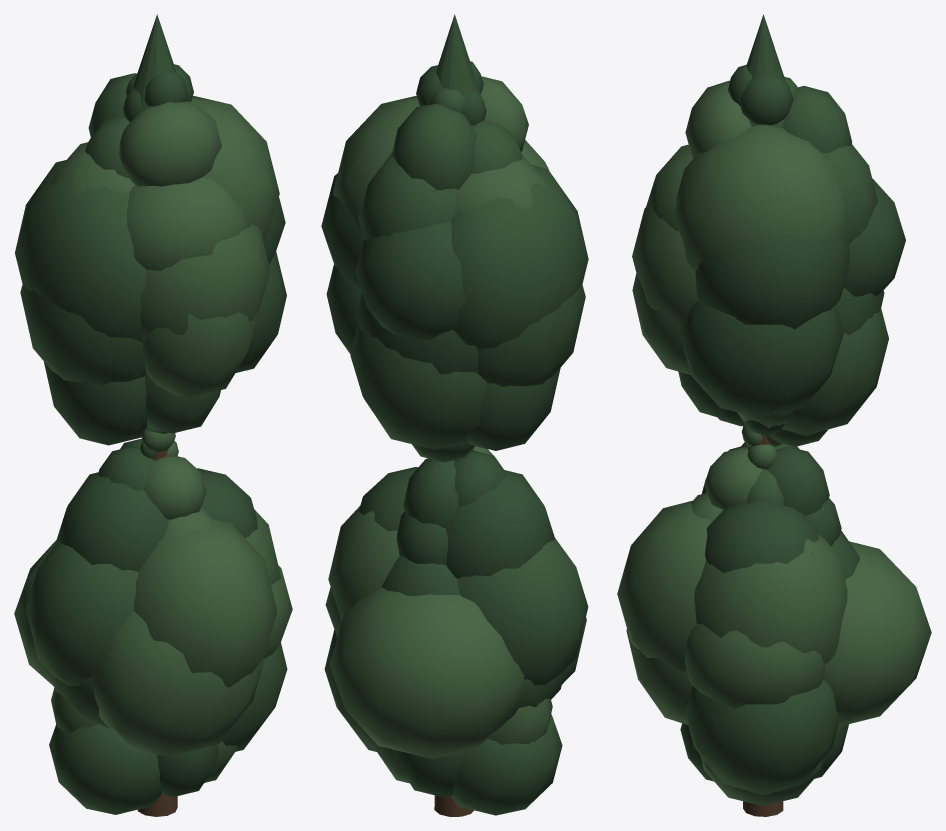
The model's file is tree_cypress_high.glb.
3 views of the same model, side by side, from view 1: azimuth 30°, elevation 25°; view 2: azimuth 150°, elevation 25°; view 3: azimuth 270°, elevation 25° (orthographic).
Bounding box in the file's own units: 3.83 × 11.88 × 4.26.
